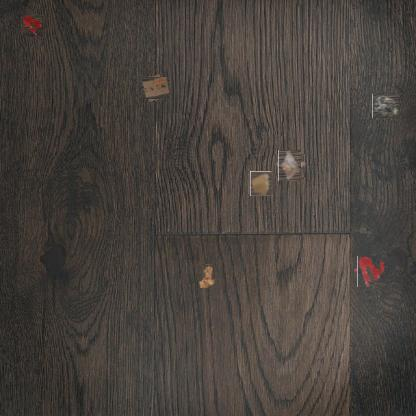dirty: (276, 152, 304, 179), (373, 94, 399, 119), (143, 76, 167, 100), (249, 172, 272, 195), (196, 264, 216, 288)
liquid: (355, 258, 383, 285), (22, 16, 42, 36)
